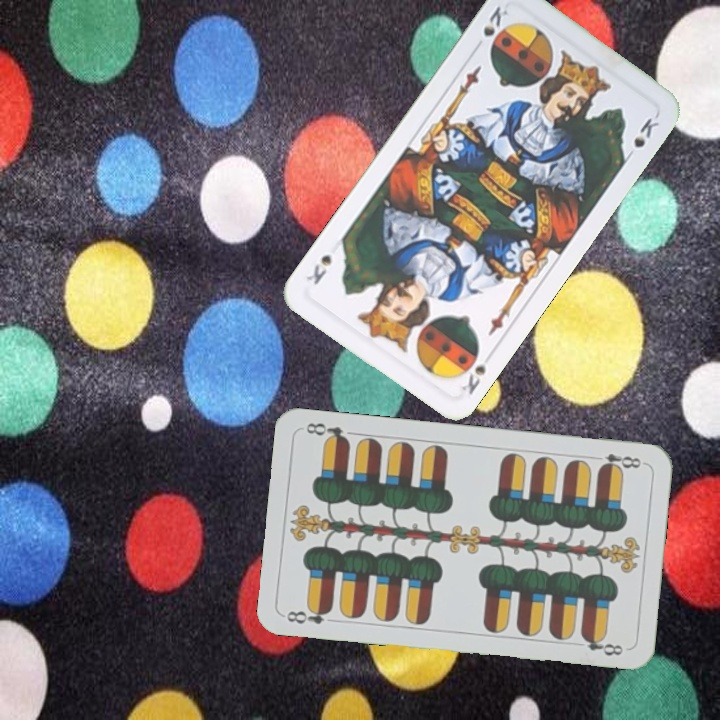E8: (588, 449, 647, 474), (283, 602, 335, 627)
SK: (479, 1, 511, 40), (457, 361, 489, 398)
